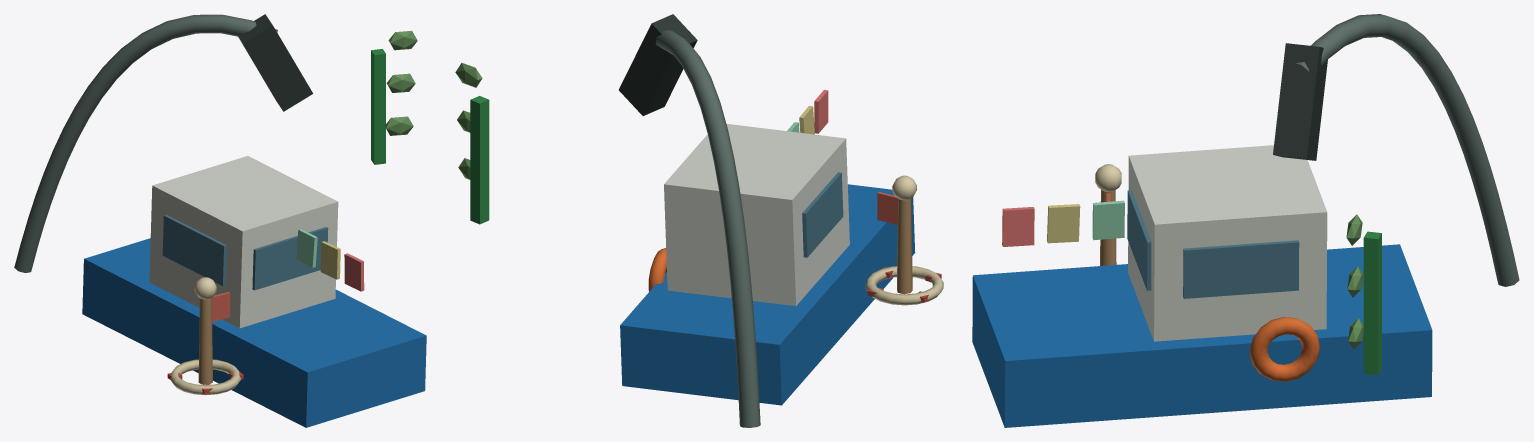
Rendered from unit_03.glb.
3 views of the same model, side by side, from view 1: azimuth 30°, elevation 25°; view 2: azimuth 150°, elevation 25°; view 3: azimuth 270°, elevation 25° (orthographic). The views are drawn at different scales.
Visible parts, largest first — view 1: unit_03; view 2: unit_03; view 3: unit_03.
Part boxes in pixels (left/top/right/bottom): unit_03: left=14, top=14, right=426, bottom=427; unit_03: left=455, top=14, right=943, bottom=427; unit_03: left=972, top=14, right=1519, bottom=427.
Size of the model in its own units: 5.84 by 4.79 by 6.56.
